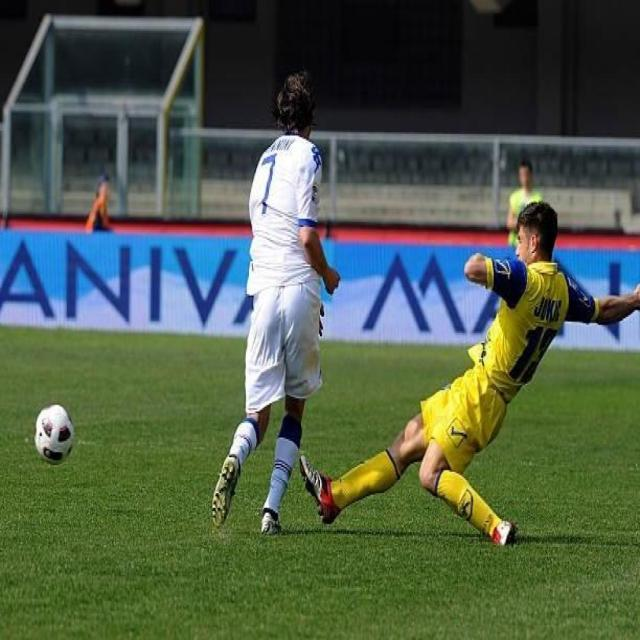ball: (31, 397, 79, 471)
player: (290, 198, 640, 547), (207, 67, 333, 553)
